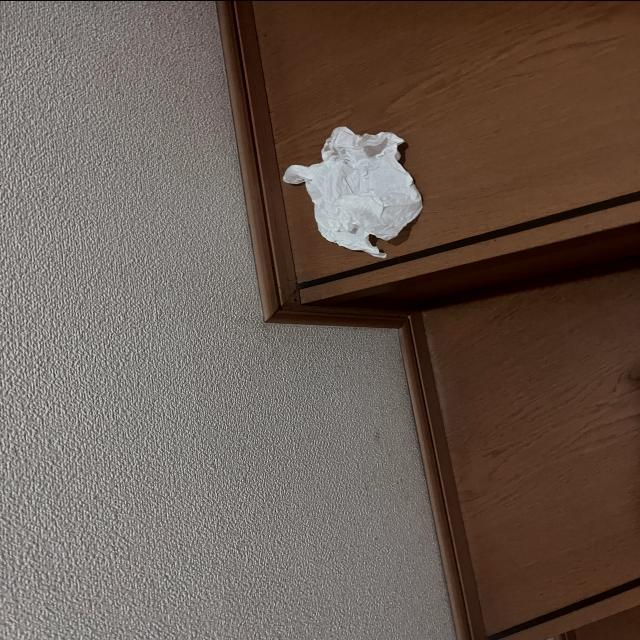Paper: (287, 114, 426, 248)
